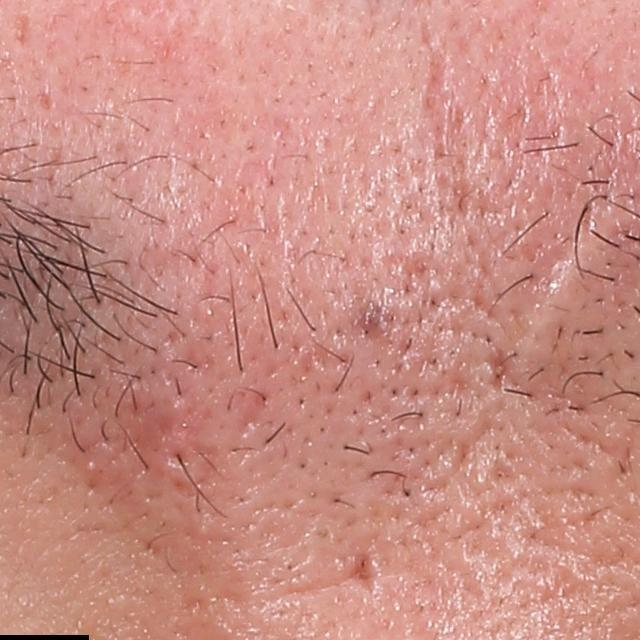atrophic_scar: (416, 14, 507, 222), (492, 238, 580, 374), (342, 546, 378, 604), (13, 9, 30, 49)
